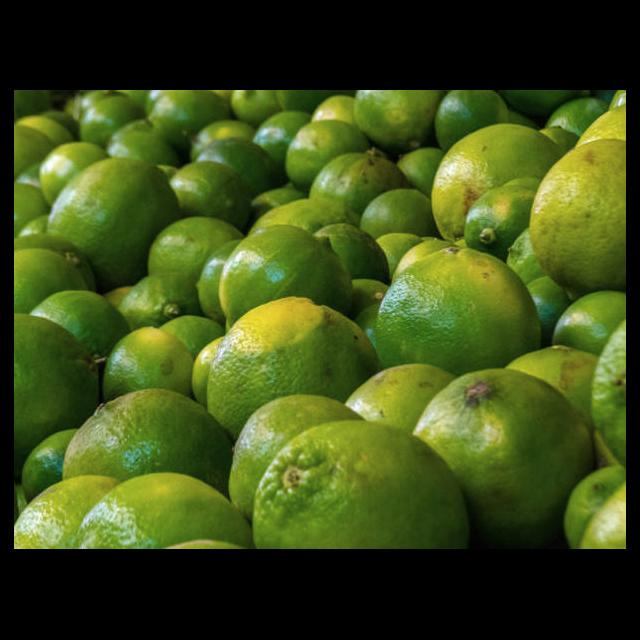lime: (413, 370, 600, 550), (190, 296, 384, 442), (371, 246, 546, 378), (527, 94, 626, 302), (430, 124, 574, 242), (219, 222, 357, 317)
